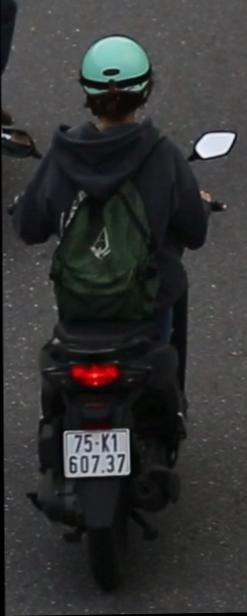LP: (58, 424, 132, 485)
helmet: (75, 30, 157, 128)
